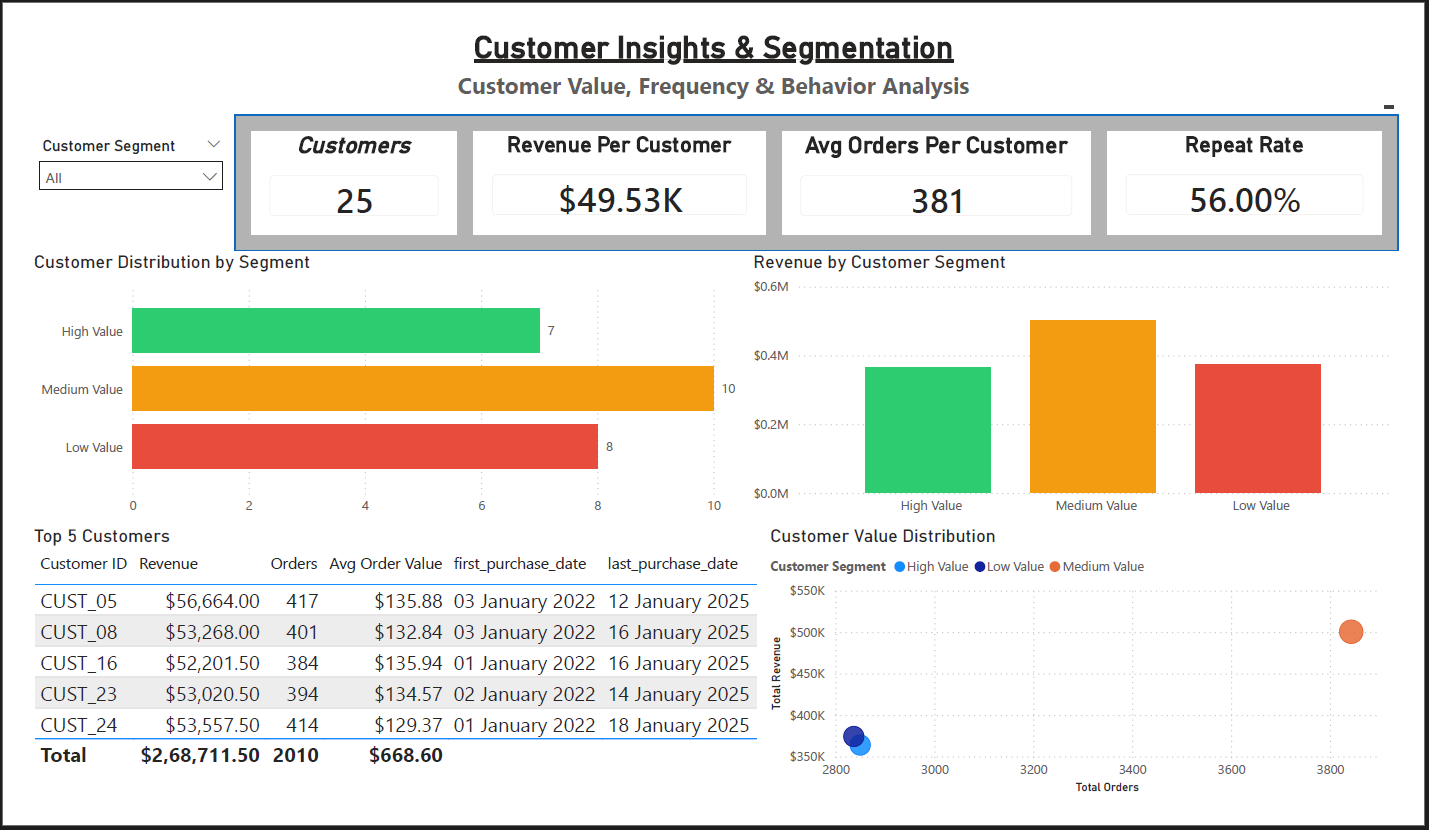

This screenshot's page, from the dashboard's own definition file:
{"tool":"powerbi","page":{"name":"Customer Analysis","canvas":[1280,720],"ordinal":4},"visuals":[{"type":"textbox","title":"Customer Insights & Segmentation","box":[0,0,1280,80],"z":0},{"type":"slicer","fields":{"Values":["gold customer_analysis.Customer Segment"]},"box":[0,96,192,96],"z":1},{"type":"shape","box":[192,80,1088,128],"z":2},{"type":"cardVisual","title":"Customers","fields":{"Data":["gold customer_analysis.Total Customers"]},"box":[208,96,192,96],"z":3},{"type":"cardVisual","title":"Revenue Per Customer","fields":{"Data":["gold customer_analysis.Avg Revenue per Customer"]},"box":[416,96,272,96],"z":4},{"type":"cardVisual","title":"Avg Orders Per Customer","fields":{"Data":["gold customer_analysis.Avg Orders per Customer"]},"box":[704,96,288,96],"z":5},{"type":"cardVisual","title":"Repeat Rate","fields":{"Data":["gold customer_analysis.Repeat Customers %"]},"box":[1008,96,256,96],"z":6},{"type":"clusteredBarChart","title":"Customer Distribution by Segment","fields":{"Category":["gold customer_analysis.Customer Segment"],"Y":["gold customer_analysis.Total Customers"]},"box":[0,208,672,256],"z":7},{"type":"clusteredColumnChart","title":"Revenue by Customer Segment","fields":{"Category":["gold customer_analysis.Customer Segment"],"Y":["Sum(gold customer_analysis.total_revenue)"]},"box":[672,208,608,256],"z":8},{"type":"tableEx","title":"Top 5 Customers","fields":{"Values":["gold customer_analysis.customer_id","Sum(gold customer_analysis.total_revenue)","Sum(gold customer_analysis.total_orders)","Sum(gold customer_analysis.avg_order_value)","gold customer_analysis.first_purchase_date","gold customer_analysis.last_purchase_date"]},"box":[0,464,688,256],"z":9},{"type":"scatterChart","title":"Customer Value Distribution","fields":{"X":["Sum(gold customer_analysis.total_orders)"],"Y":["Sum(gold customer_analysis.total_revenue)"],"Size":["Sum(gold customer_analysis.total_quantity_sold)"],"Series":["gold customer_analysis.Customer Segment"]},"box":[688,464,592,256],"z":10}]}

Visuals, with their boxes on the page's 1280x720 design canvas (x1, y1, x2, y2). These are canvas units, not pixel positions in the 1429x830 screenshot, which may show the page scaled, cropped or inside an application window:
"Customer Insights & Segmentation" textbox: x1=0, y1=0, x2=1280, y2=80
slicer - gold customer_analysis.Customer Segment: x1=0, y1=96, x2=192, y2=192
shape: x1=192, y1=80, x2=1280, y2=208
"Customers" cardVisual: x1=208, y1=96, x2=400, y2=192
"Revenue Per Customer" cardVisual: x1=416, y1=96, x2=688, y2=192
"Avg Orders Per Customer" cardVisual: x1=704, y1=96, x2=992, y2=192
"Repeat Rate" cardVisual: x1=1008, y1=96, x2=1264, y2=192
"Customer Distribution by Segment" clusteredBarChart: x1=0, y1=208, x2=672, y2=464
"Revenue by Customer Segment" clusteredColumnChart: x1=672, y1=208, x2=1280, y2=464
"Top 5 Customers" tableEx: x1=0, y1=464, x2=688, y2=720
"Customer Value Distribution" scatterChart: x1=688, y1=464, x2=1280, y2=720
